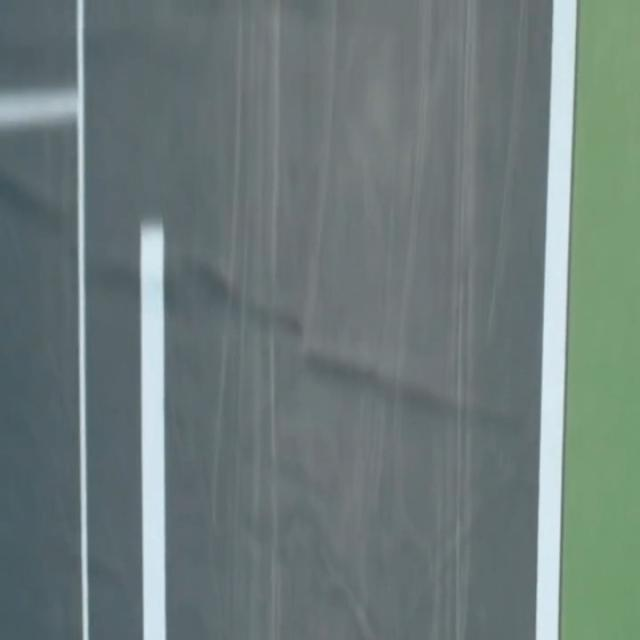center: (140, 223, 166, 639)
right: (536, 0, 576, 639)
